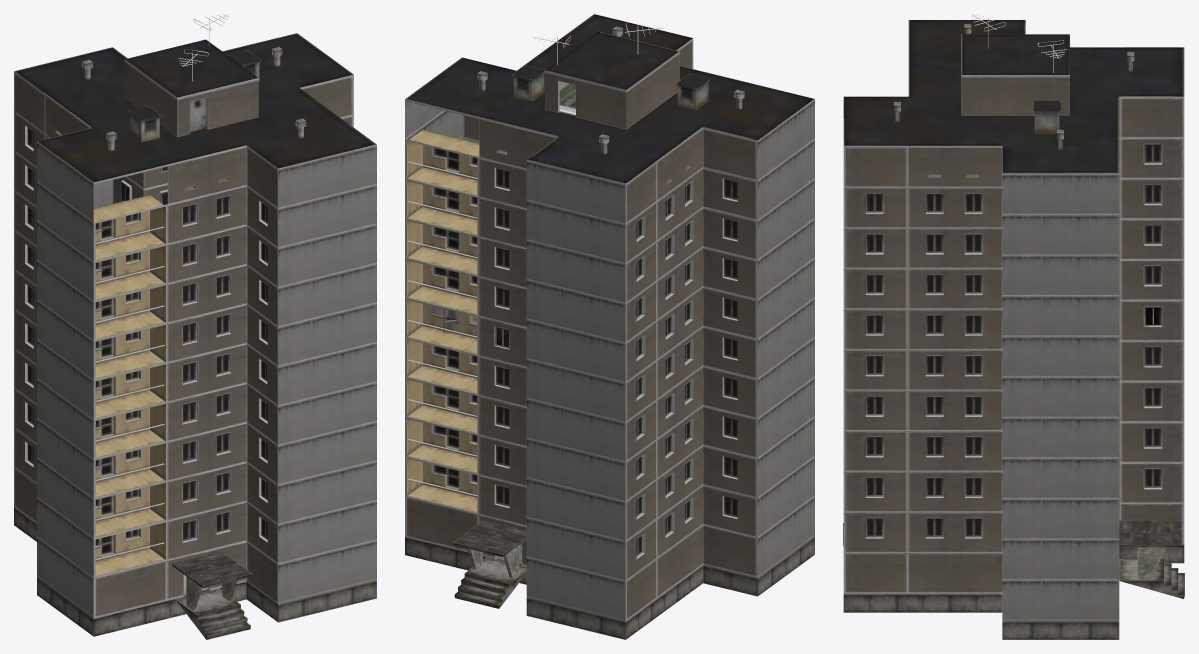
Rendered from panel-house.lod.glb.
The picture shows the model from 3 angles, left to right: view 1: azimuth 30°, elevation 25°; view 2: azimuth 150°, elevation 25°; view 3: azimuth 270°, elevation 25°; orthographic projection. The views are drawn at different scales.
Visible parts, largest first — view 1: Object_2; view 2: Object_2; view 3: Object_2.
Part boxes in pixels (x1,y1,x2,y2): Object_2: (14,14,376,639); Object_2: (405,14,814,639); Object_2: (843,14,1184,639).
Bounding box in the file's own units: 104 × 170 × 97.94.
Materials: 2 (2 with a texture image).
